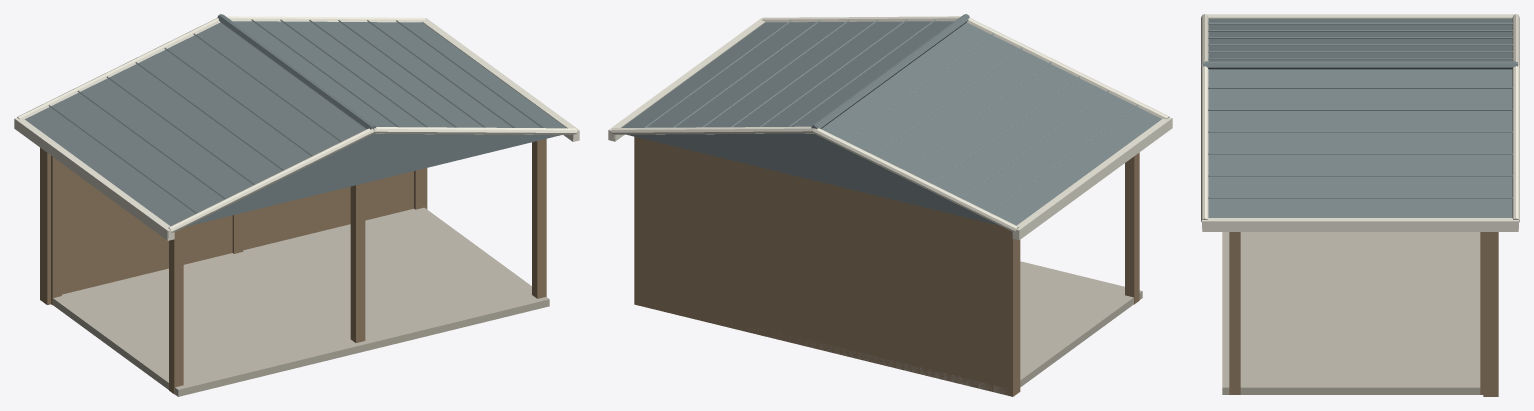
3 views of the same model, side by side, from view 1: azimuth 30°, elevation 25°; view 2: azimuth 150°, elevation 25°; view 3: azimuth 270°, elevation 25° (orthographic). The views are drawn at different scales.
Size of the model in its own units: 9.76 by 5.26 by 6.35.
